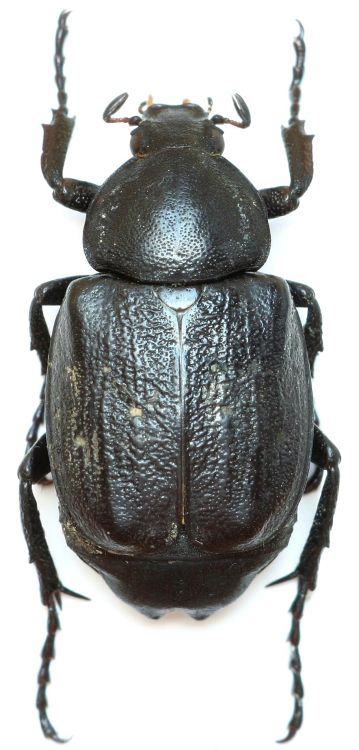Gnorimus_variabilis: (5, 5, 349, 750)
